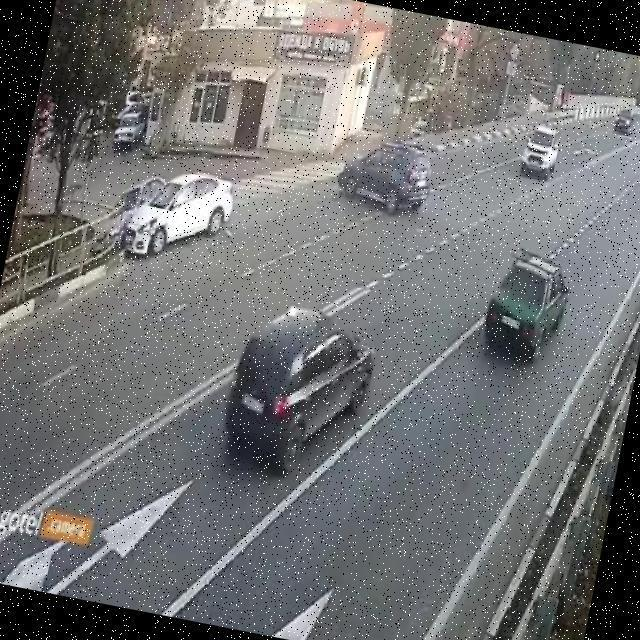accident: (107, 190, 183, 260)
